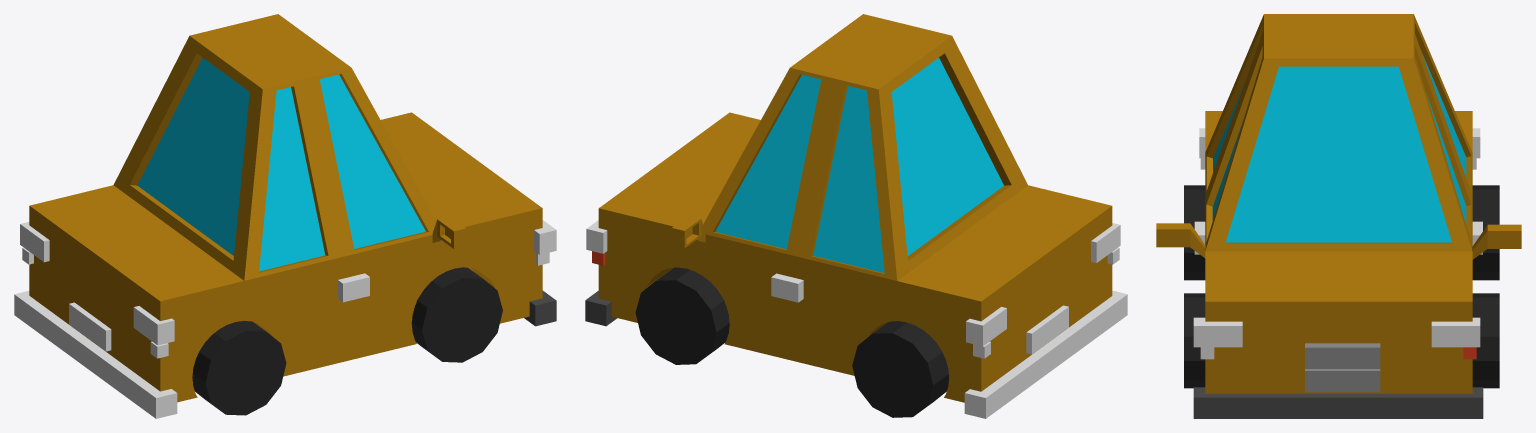
The model's file is Basic2.fbx.
The picture shows the model from 3 angles, left to right: view 1: azimuth 30°, elevation 25°; view 2: azimuth 150°, elevation 25°; view 3: azimuth 270°, elevation 25°; orthographic projection. The views are drawn at different scales.
Visible parts, largest first — view 1: Cube, Cylinder.014, Cylinder.015, Cube.009, Cube.011, Cube.008, Cube.015, Cube.010, Cube.003, Cube.013, Cube.001; view 2: Cube, Cylinder.012, Cylinder.013, Cube.009, Cube.011, Cube.010, Cube.014, Cube.008, Cube.012, Cube.003, Cube.005; view 3: Cube, Cube.003, Cylinder.013, Cube.007, Cylinder.012, Cube.006, Cylinder.015, Cylinder.014, Cube.001, Cube.005, Cube.014, Cube.015.
Boxes of the visible parts, x1=… form: Cube: x1=29, y1=14, x2=542, y2=402; Cylinder.014: x1=192, y1=321, x2=286, y2=415; Cylinder.015: x1=411, y1=267, x2=502, y2=362; Cube.009: x1=14, y1=291, x2=177, y2=418; Cube.011: x1=69, y1=302, x2=111, y2=351; Cube.008: x1=133, y1=306, x2=174, y2=345; Cube.015: x1=432, y1=216, x2=466, y2=248; Cube.010: x1=20, y1=222, x2=49, y2=262; Cube.003: x1=524, y1=290, x2=556, y2=326; Cube.013: x1=338, y1=273, x2=369, y2=302; Cube.001: x1=534, y1=220, x2=556, y2=254; Cube: x1=598, y1=14, x2=1112, y2=402; Cylinder.012: x1=852, y1=321, x2=948, y2=417; Cylinder.013: x1=635, y1=267, x2=729, y2=364; Cube.009: x1=964, y1=290, x2=1127, y2=418; Cube.011: x1=1026, y1=305, x2=1068, y2=354; Cube.010: x1=966, y1=307, x2=1006, y2=346; Cube.014: x1=672, y1=215, x2=705, y2=248; Cube.008: x1=1091, y1=223, x2=1120, y2=263; Cube.012: x1=771, y1=273, x2=803, y2=302; Cube.003: x1=585, y1=291, x2=617, y2=326; Cube.005: x1=586, y1=220, x2=607, y2=253; Cube: x1=1205, y1=14, x2=1472, y2=393; Cube.003: x1=1193, y1=387, x2=1483, y2=418; Cylinder.013: x1=1472, y1=293, x2=1499, y2=388; Cube.007: x1=1305, y1=343, x2=1380, y2=368; Cylinder.012: x1=1472, y1=185, x2=1499, y2=280; Cube.006: x1=1305, y1=369, x2=1380, y2=392; Cylinder.015: x1=1184, y1=293, x2=1205, y2=388; Cylinder.014: x1=1184, y1=185, x2=1205, y2=280; Cube.001: x1=1193, y1=317, x2=1242, y2=347; Cube.005: x1=1431, y1=317, x2=1480, y2=347; Cube.014: x1=1472, y1=224, x2=1521, y2=259; Cube.015: x1=1156, y1=223, x2=1205, y2=257.
Size of the model in its own units: 526 by 356 by 406.
